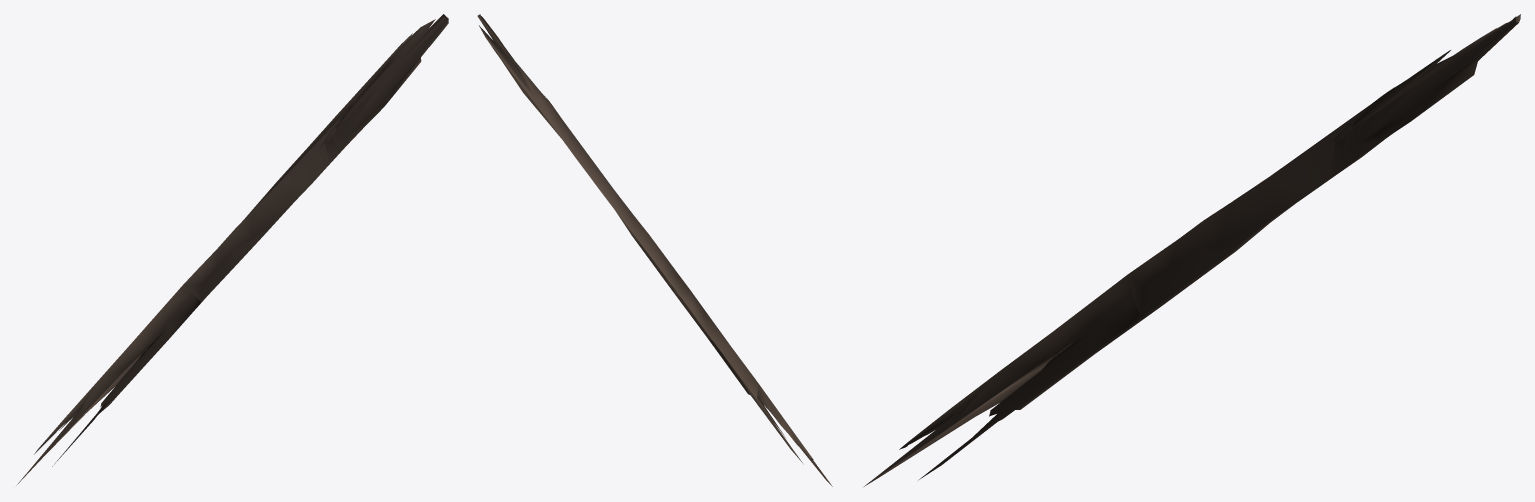
The picture shows the model from 3 angles, left to right: view 1: azimuth 30°, elevation 25°; view 2: azimuth 150°, elevation 25°; view 3: azimuth 330°, elevation 25°; orthographic projection. The views are drawn at different scales.
Parts seen in each view (by area): view 1: alt14.006; view 2: alt14.006; view 3: alt14.006.
Boxes of the visible parts, bbox=[...] form: alt14.006: bbox=[16, 14, 448, 485]; alt14.006: bbox=[477, 14, 832, 486]; alt14.006: bbox=[864, 14, 1520, 486].
Bounding box in the file's own units: 0.5 × 0.4589 × 0.0668.
